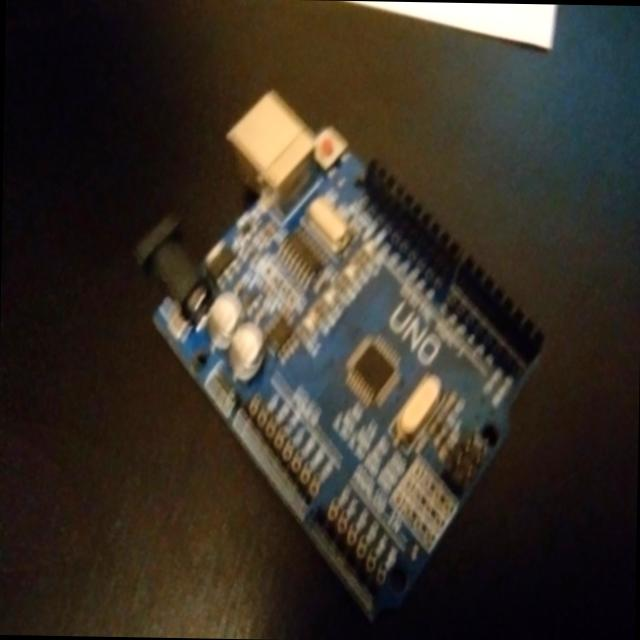arduino: (135, 86, 544, 630)
